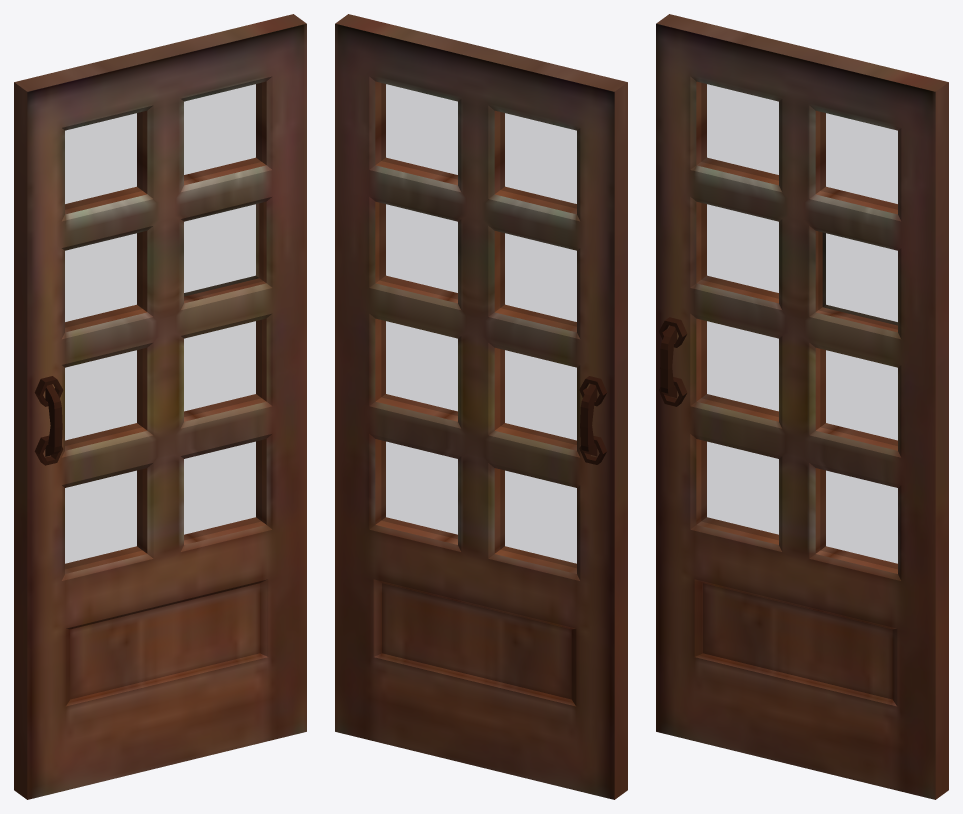
The picture shows the model from 3 angles, left to right: view 1: azimuth 30°, elevation 25°; view 2: azimuth 150°, elevation 25°; view 3: azimuth 330°, elevation 25°; orthographic projection.
Visible parts, largest first — view 1: Front Door_001; view 2: Front Door_001; view 3: Front Door_001.
Part boxes in pixels (bbox=[...]): Front Door_001: bbox=[14, 14, 306, 799]; Front Door_001: bbox=[335, 14, 627, 799]; Front Door_001: bbox=[656, 14, 948, 799].
Bounding box in the file's own units: 0.8309 × 2.01 × 0.1851.
Materials: 2 (1 with a texture image).
